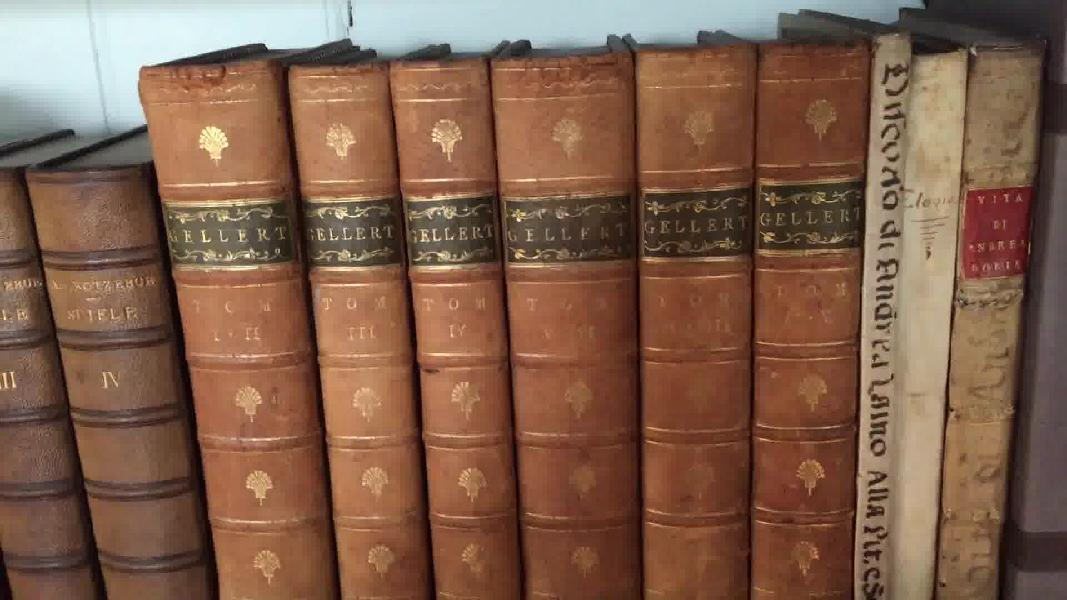Aa6-18_23: (133, 42, 861, 600)
Aa6-24: (856, 11, 907, 600)
Aa6-25: (894, 44, 961, 598)
Aa6-26: (928, 42, 1063, 600)
